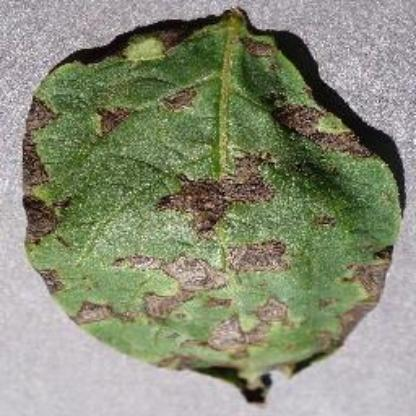Early-Blight: (20, 10, 404, 402)
